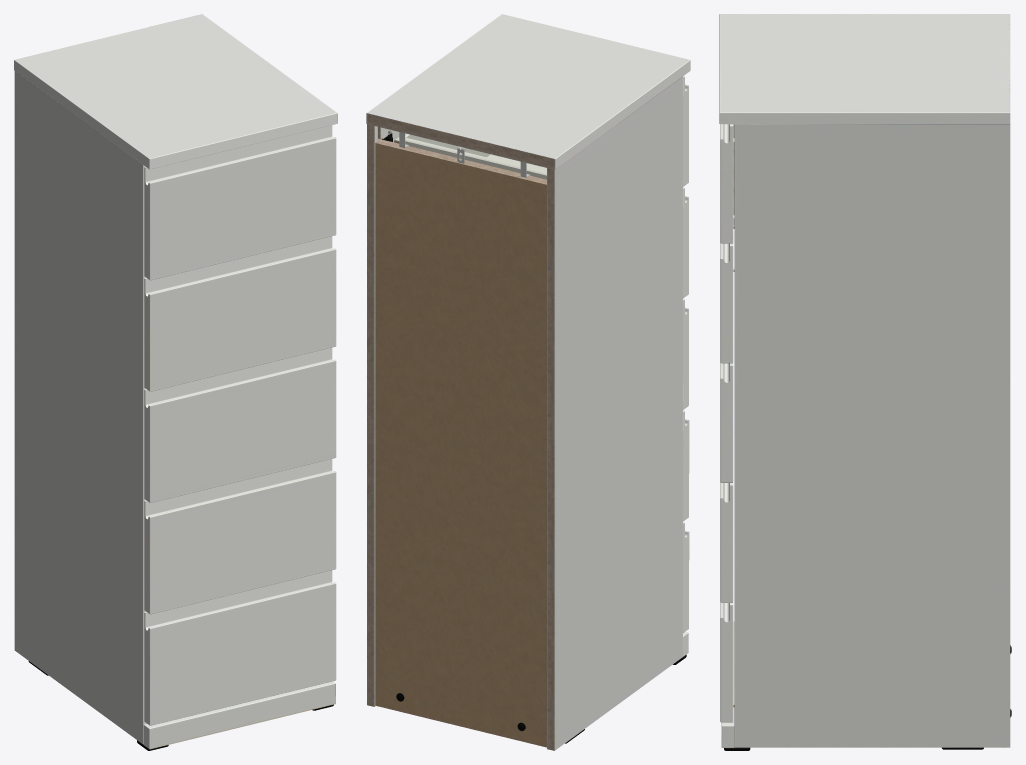
Rendered from storklinta_komoda_5_szuflad_40627542.glb.
3 renders of one model, left to right at view 1: azimuth 30°, elevation 25°; view 2: azimuth 150°, elevation 25°; view 3: azimuth 270°, elevation 25°, orthographic. The views are drawn at different scales.
Parts seen in each view (by area): view 1: storklinta_komoda_5_szuflad_40627542; view 2: storklinta_komoda_5_szuflad_40627542; view 3: storklinta_komoda_5_szuflad_40627542.
Part boxes in pixels (x1,y1,x2,y2): storklinta_komoda_5_szuflad_40627542: (14,14,337,750); storklinta_komoda_5_szuflad_40627542: (366,14,690,750); storklinta_komoda_5_szuflad_40627542: (719,14,1011,750).
Size of the model in its own units: 0.399 by 1.2 by 0.498.
Materials: 1 (1 with a texture image).
